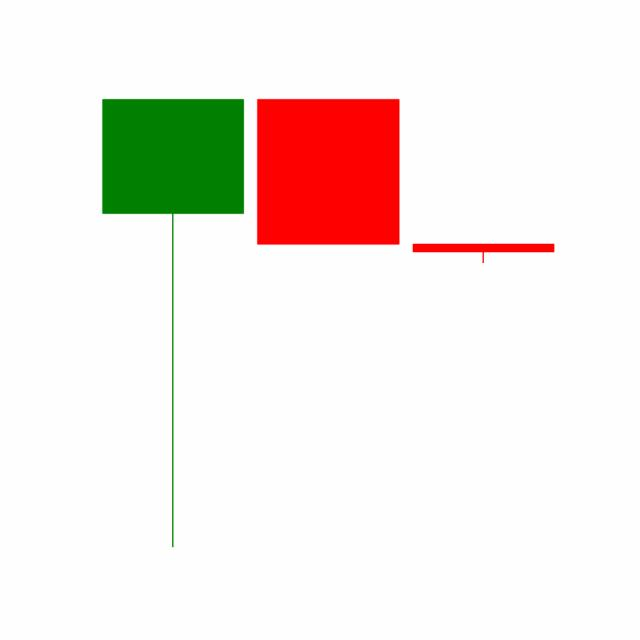Hanging Man: (405, 243, 561, 264)
